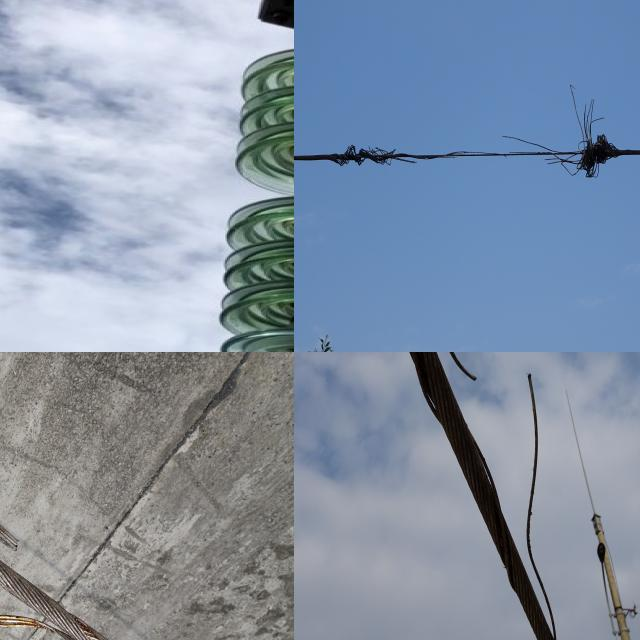正常绝缘子: (189, 35, 294, 352)
电缆破损: (392, 352, 586, 640), (0, 366, 195, 570), (332, 118, 624, 184)
